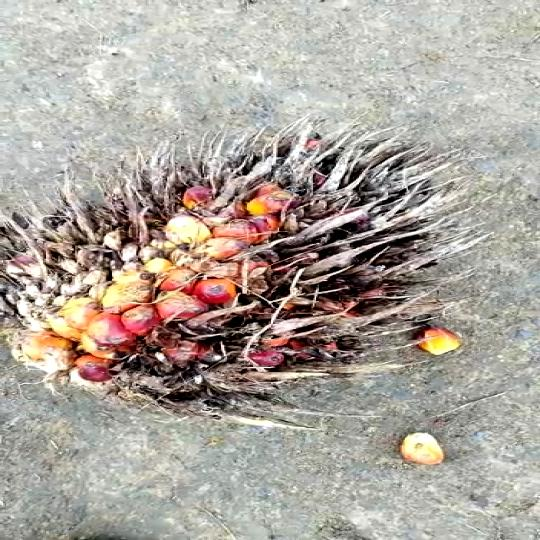terlalu masak: (0, 127, 459, 417)
